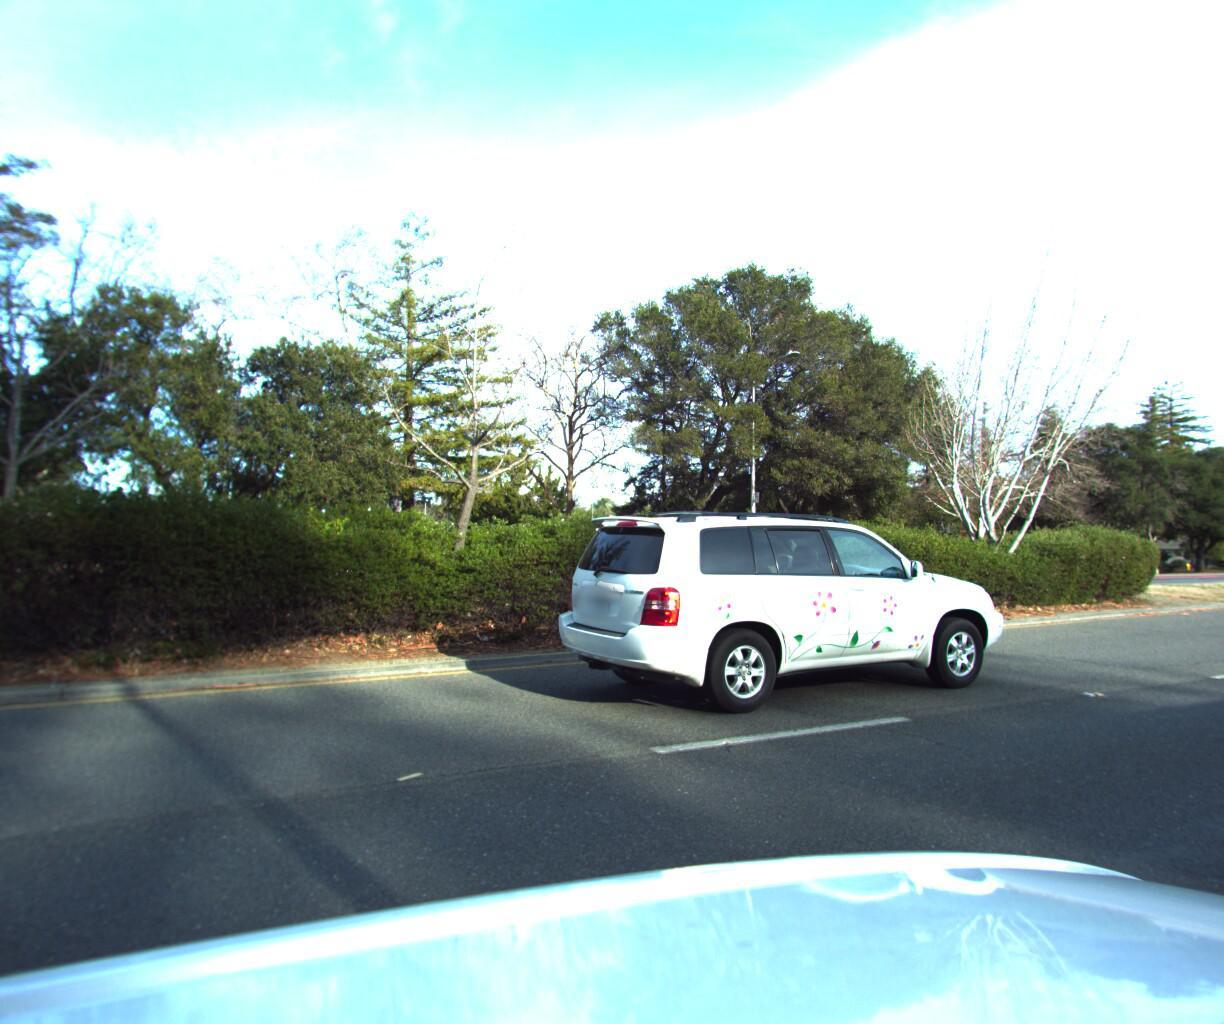car: (536, 503, 1014, 726)
